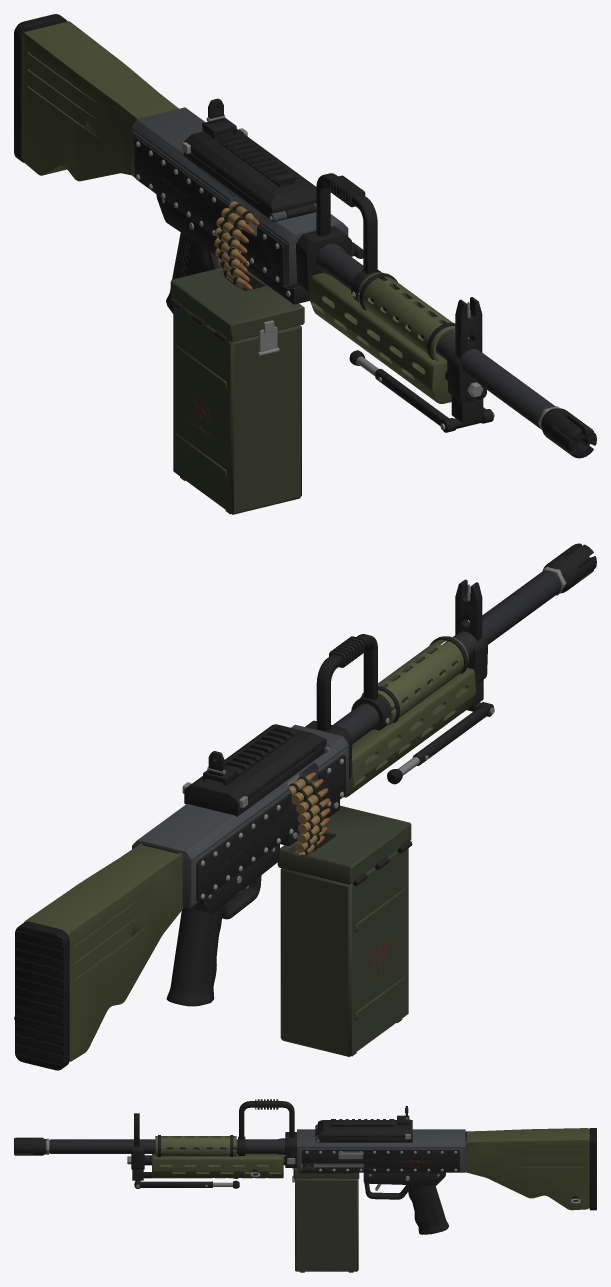
The model's file is BastionLMG.fbx.
The picture shows the model from 3 angles, top to bottom: view 1: azimuth 30°, elevation 25°; view 2: azimuth 150°, elevation 25°; view 3: azimuth 270°, elevation 25°; orthographic projection. The views are drawn at different scales.
Parts seen in each view (by area): view 1: RBX_Body_PolyOlive, RBX_BLMG_AmmoBox_PaintOliveDark, RBX_Body_Blackened, RBX_BLMG_FeedCover_Blackened, RBX_BLMG_AmmoBox_Lid_PaintOliveDark, RBX_Body_Graphite, RBX_Body_DarkSteel, RBX_Body_PaintOlive, RBX_Body_PolyBlack, RBX_BLMG_Belt_Cartridges_Brass, RBX_Body_Rubber, RBX_BLMG_BipodLeg_R_Blackened (+2 smaller); view 2: RBX_BLMG_AmmoBox_PaintOliveDark, RBX_Body_PolyOlive, RBX_Body_Blackened, RBX_Body_Rubber, RBX_Body_PolyBlack, RBX_BLMG_FeedCover_Blackened, RBX_Body_Graphite, RBX_BLMG_AmmoBox_Lid_PaintOliveDark, RBX_Body_DarkSteel, RBX_Body_PaintOlive, RBX_BLMG_Belt_Cartridges_Brass, RBX_BLMG_BipodLeg_R_Blackened (+1 smaller); view 3: RBX_Body_PolyOlive, RBX_BLMG_AmmoBox_PaintOliveDark, RBX_Body_Blackened, RBX_Body_Graphite, RBX_Body_PolyBlack, RBX_BLMG_FeedCover_Blackened, RBX_Body_DarkSteel, RBX_Body_PaintOlive, RBX_Body_Rubber, RBX_BLMG_BipodLeg_L_Blackened, RBX_Body_Steel, RBX_BLMG_AmmoBox_Lid_PaintOliveDark.
Part boxes in pixels (x1,y1,x2,y2): RBX_Body_PolyOlive: (22,21,451,403); RBX_BLMG_AmmoBox_PaintOliveDark: (173,285,301,514); RBX_Body_Blackened: (134,138,596,458); RBX_BLMG_FeedCover_Blackened: (183,98,316,218); RBX_BLMG_AmmoBox_Lid_PaintOliveDark: (170,262,304,341); RBX_Body_Graphite: (131,107,348,289); RBX_Body_DarkSteel: (316,243,555,429); RBX_Body_PaintOlive: (358,272,455,361); RBX_Body_PolyBlack: (156,175,365,313); RBX_BLMG_Belt_Cartridges_Brass: (214,201,255,287); RBX_Body_Rubber: (14,14,67,162); RBX_BLMG_BipodLeg_R_Blackened: (375,368,456,432); RBX_BLMG_AmmoBox_PaintOliveDark: (280,847,408,1056); RBX_Body_PolyOlive: (24,667,475,1061); RBX_Body_Blackened: (142,543,596,902); RBX_Body_Rubber: (15,921,69,1070); RBX_Body_PolyBlack: (166,636,365,1006); RBX_BLMG_FeedCover_Blackened: (184,724,326,816); RBX_Body_Graphite: (132,724,348,908); RBX_BLMG_AmmoBox_Lid_PaintOliveDark: (277,805,411,884); RBX_Body_DarkSteel: (333,570,560,743); RBX_Body_PaintOlive: (360,636,468,724); RBX_BLMG_Belt_Cartridges_Brass: (289,775,325,856); RBX_BLMG_BipodLeg_R_Blackened: (412,702,493,765); RBX_Body_PolyOlive: (152,1128,589,1210); RBX_BLMG_AmmoBox_PaintOliveDark: (295,1179,358,1272); RBX_Body_Blackened: (14,1101,578,1200); RBX_Body_Graphite: (297,1124,465,1172); RBX_Body_PolyBlack: (255,1099,448,1234); RBX_BLMG_FeedCover_Blackened: (315,1106,412,1142); RBX_Body_DarkSteel: (49,1138,285,1154); RBX_Body_PaintOlive: (155,1136,236,1156); RBX_Body_Rubber: (589,1128,596,1210); RBX_BLMG_BipodLeg_L_Blackened: (134,1180,212,1188); RBX_Body_Steel: (46,1116,580,1203); RBX_BLMG_AmmoBox_Lid_PaintOliveDark: (294,1168,359,1178).
Bounding box in the file's own units: 0.7707 × 1.68 × 5.
